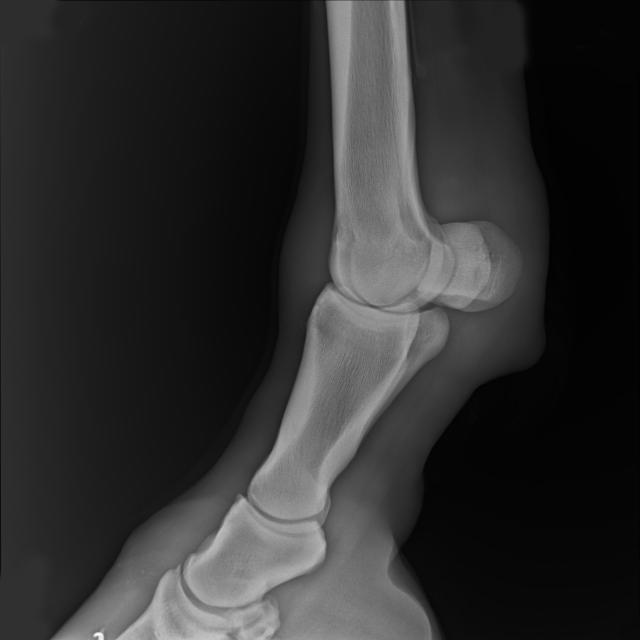joint-ht8A: (263, 137, 551, 386)
